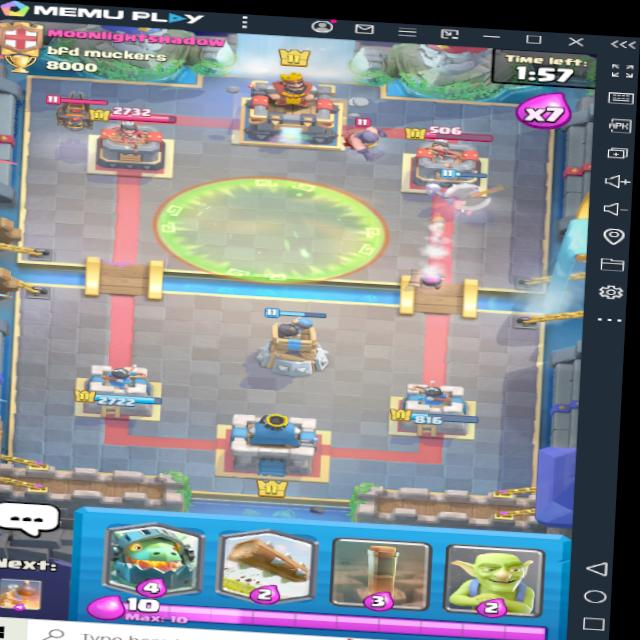executioner: (325, 120, 392, 163)
goblin-curse: (153, 169, 389, 291)
lava-hound: (43, 91, 106, 133)
